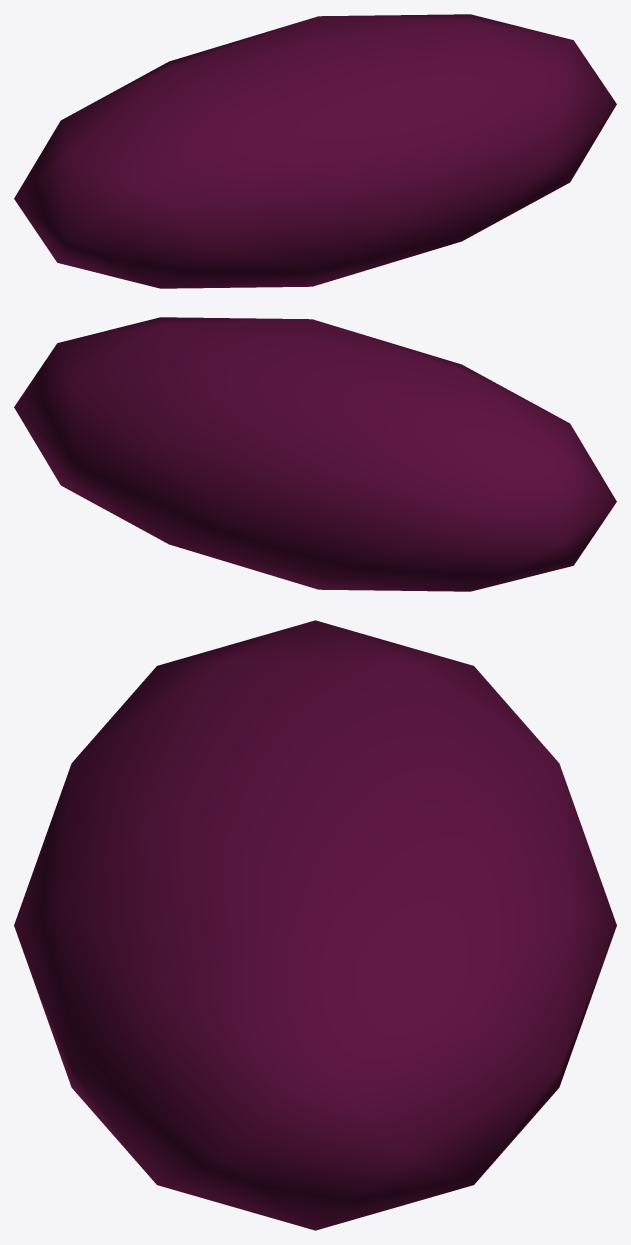
File: BeterrabaSemente.fbx
3 views of the same model, one above another, from view 1: azimuth 30°, elevation 25°; view 2: azimuth 150°, elevation 25°; view 3: azimuth 270°, elevation 25° (orthographic). The views are drawn at different scales.
Parts seen in each view (by area): view 1: BeterrabaSemente; view 2: BeterrabaSemente; view 3: BeterrabaSemente.
Boxes of the visible parts, x1,y1,x2,y2 form: BeterrabaSemente: [14, 14, 616, 288]; BeterrabaSemente: [14, 317, 616, 591]; BeterrabaSemente: [14, 620, 616, 1230].
Size of the model in its own units: 2.02 by 0.7581 by 1.11.
